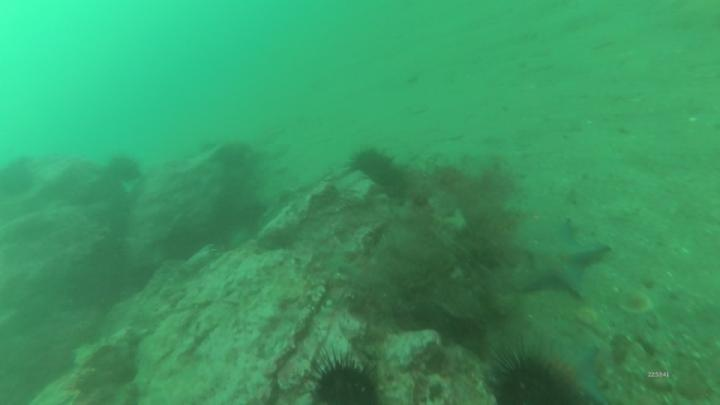echinus: (497, 353, 562, 404), (310, 361, 378, 405), (354, 148, 400, 187)
starfish: (523, 228, 608, 295), (550, 341, 607, 401)
